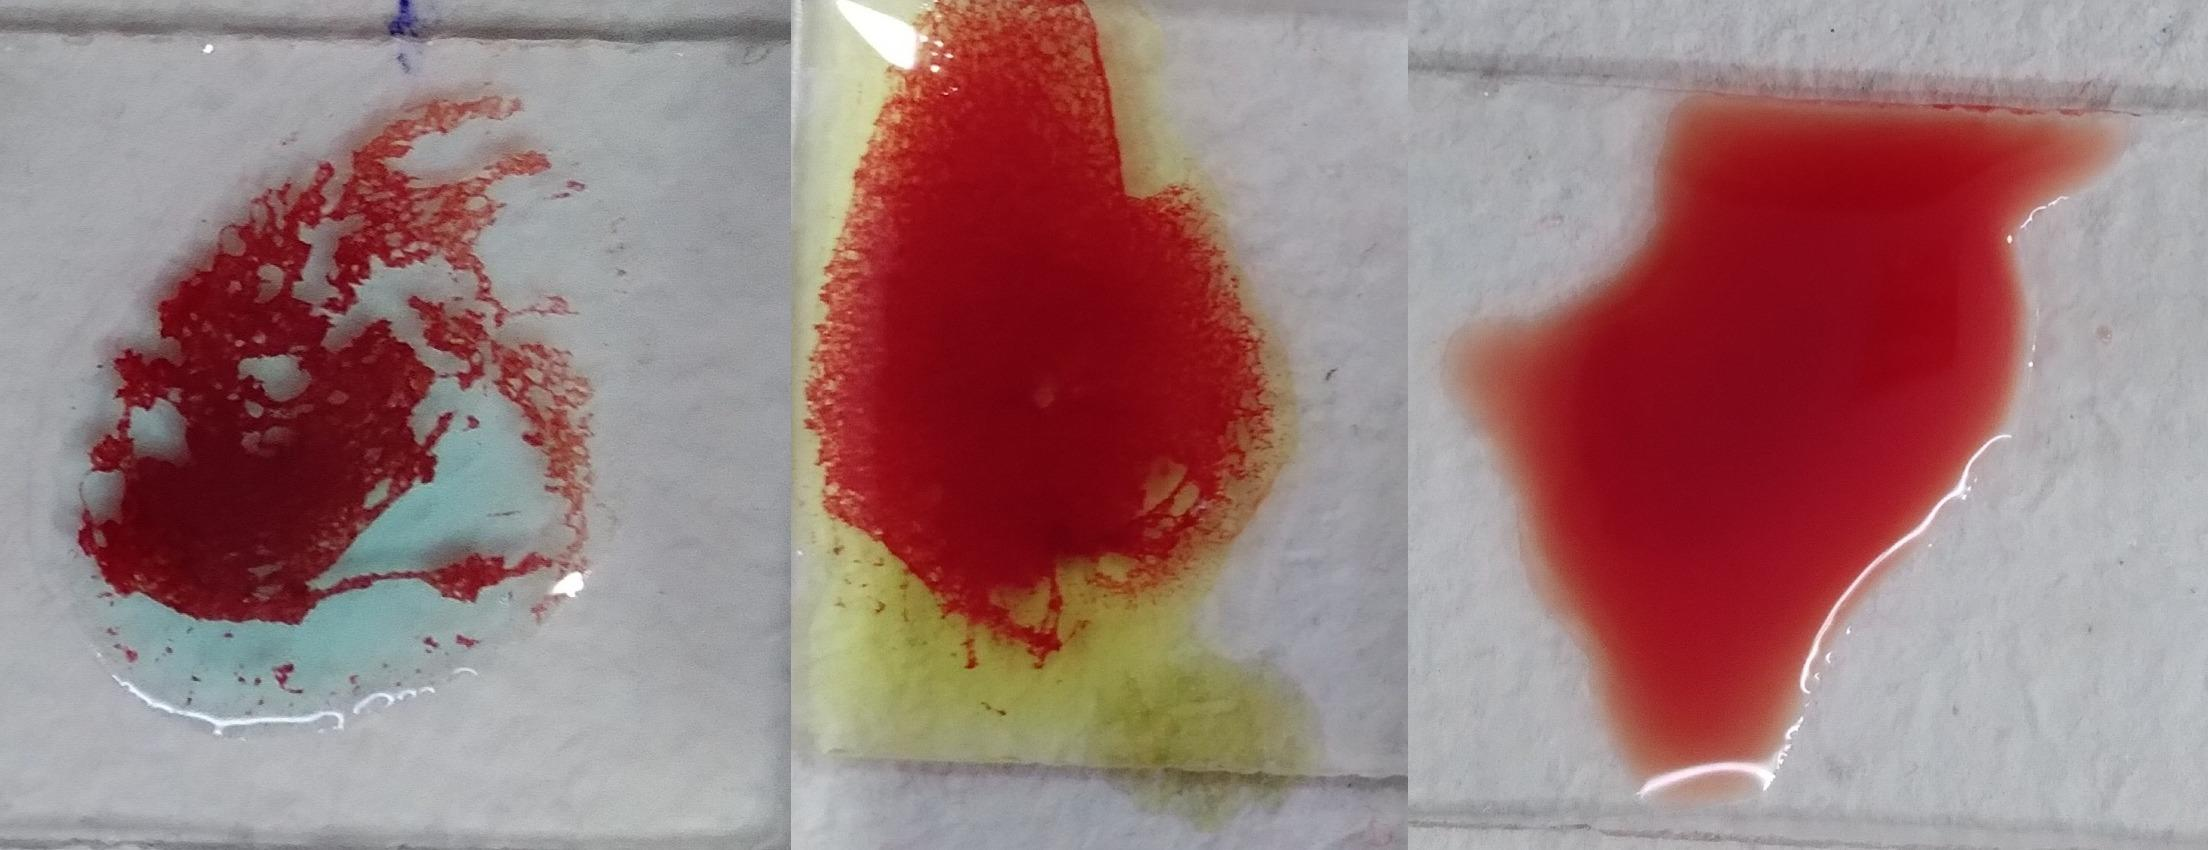A: (58, 89, 598, 723)
B: (800, 13, 1290, 732)
